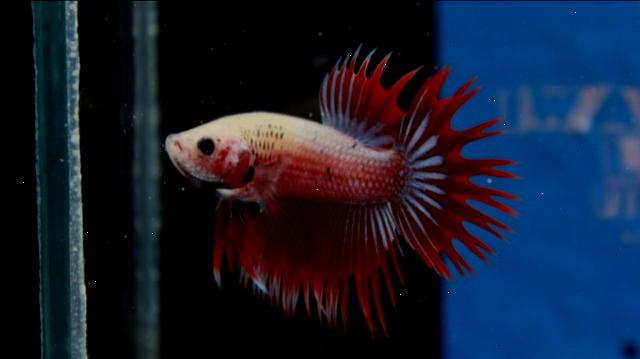Mulut: (144, 114, 206, 188)
Sirip Anal: (231, 182, 413, 346)
Sirip Dada: (240, 139, 314, 235)
Sirip Ekor: (387, 58, 529, 294)
Sirip Perut: (198, 180, 272, 300)
Sirip Punggung: (312, 34, 412, 159)
